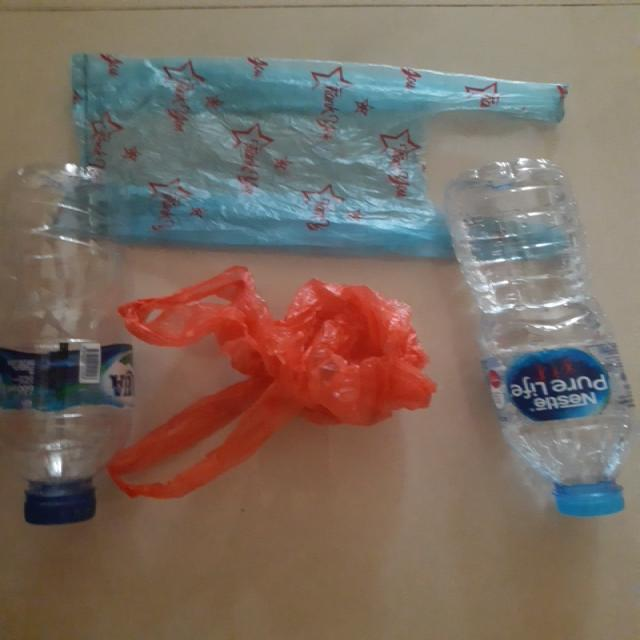Single-layer Plastic: (72, 54, 566, 257), (108, 266, 435, 498)
